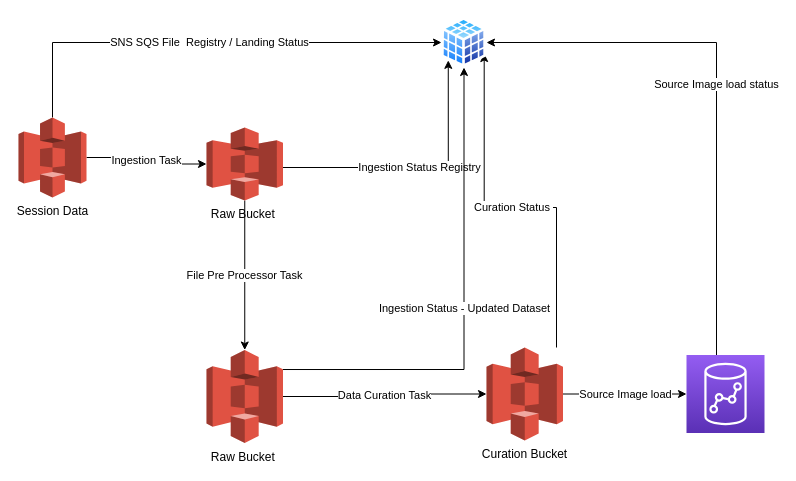
Image size: 796x481. Some labels were removed from this diagram. Each missing label, with the box of its shape:
Fire Registry: (441, 17, 486, 67)
Source Image: (686, 354, 764, 433)
